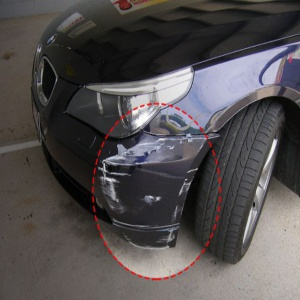bumper_scratch: (104, 142, 195, 252)
